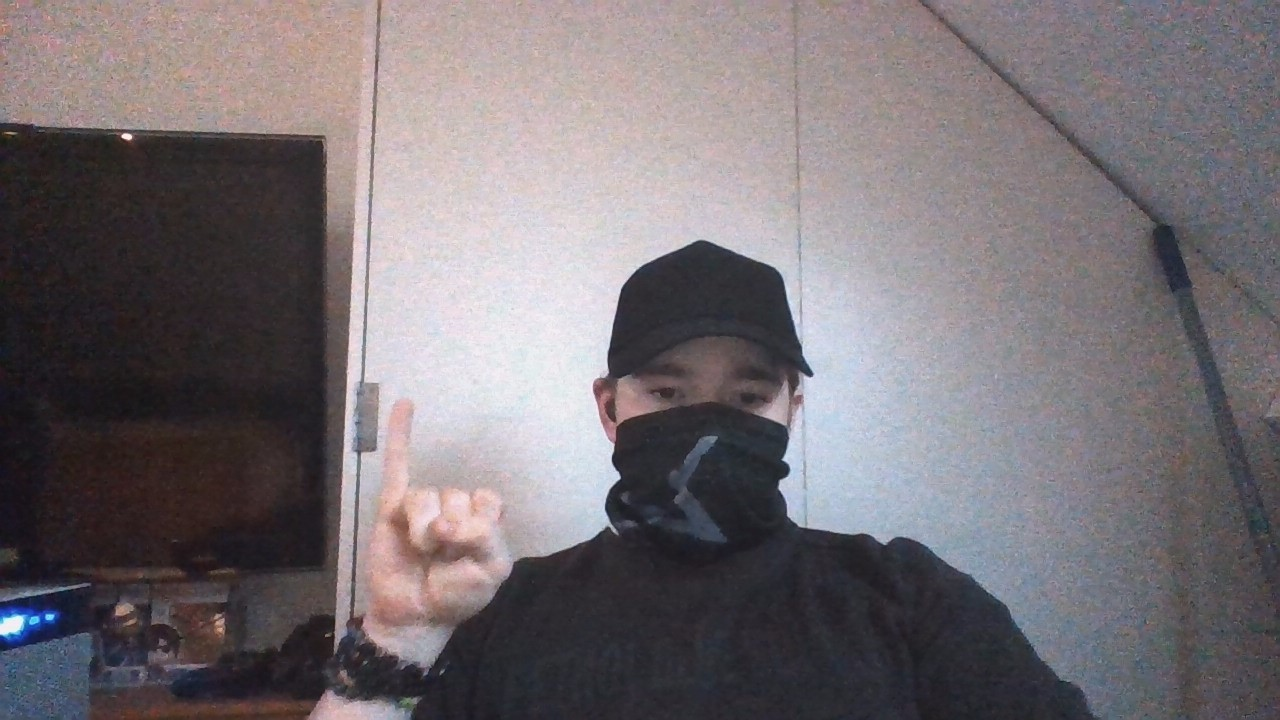I" Sign language: (358, 398, 532, 631)
